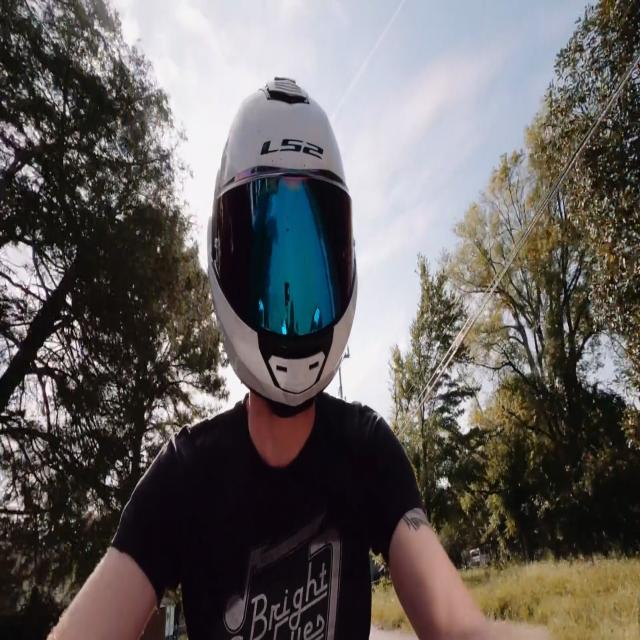Helmet_Wearer: (192, 70, 366, 434)
Person: (38, 68, 544, 640)
